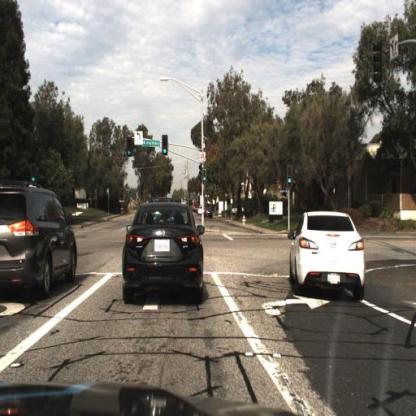car: (1, 181, 80, 299), (123, 197, 206, 307), (289, 209, 370, 307), (204, 204, 216, 223)
trafficLight-Green: (286, 165, 296, 189), (161, 138, 169, 161), (201, 166, 209, 185)
trafficLight-GreenLeft: (29, 166, 41, 187), (126, 134, 134, 161)
